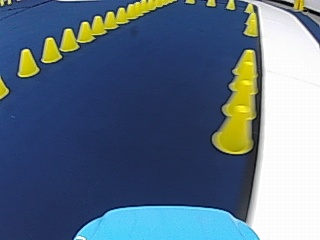cone: (211, 98, 254, 153), (223, 78, 257, 120), (233, 49, 258, 82), (16, 47, 39, 77), (40, 35, 62, 62), (59, 27, 78, 51), (243, 11, 258, 35), (76, 21, 93, 42), (90, 15, 105, 35), (103, 10, 116, 29), (0, 75, 10, 99), (114, 6, 127, 23), (125, 3, 137, 18), (225, 0, 235, 9)
